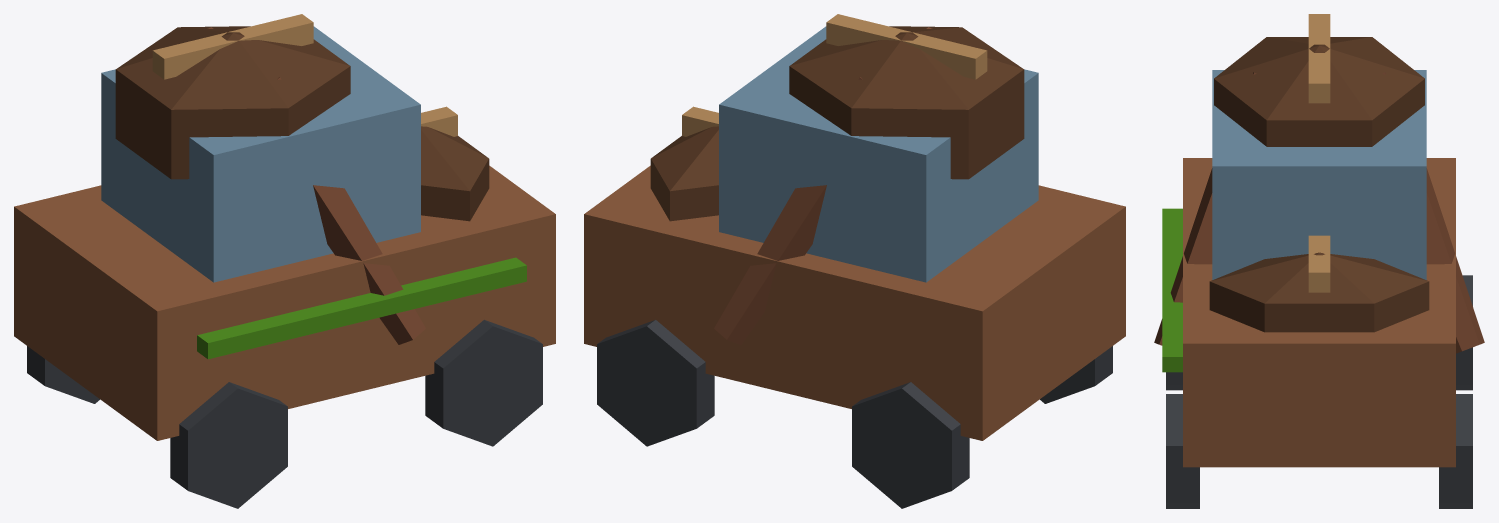
Rendered from prop-car-compact-infested.glb.
The picture shows the model from 3 angles, left to right: view 1: azimuth 30°, elevation 25°; view 2: azimuth 150°, elevation 25°; view 3: azimuth 270°, elevation 25°; orthographic projection. The views are drawn at different scales.
Visible parts, largest first — view 1: rusted_body, cabin, roof_growth, wheel.002, wheel, resin_seam, bonnet_growth, windshield_root_-1, roof_growth_ridge, wheel.001, bonnet_growth_ridge; view 2: rusted_body, cabin, roof_growth, wheel.003, wheel.001, windshield_root_1, bonnet_growth, roof_growth_ridge, wheel, bonnet_growth_ridge; view 3: rusted_body, cabin, roof_growth, bonnet_growth, resin_seam, windshield_root_1, wheel.002, wheel.003, windshield_root_-1, roof_growth_ridge, bonnet_growth_ridge, wheel.001.
Part boxes in pixels (bbox=[...]): rusted_body: bbox=[14, 165, 555, 440]; cabin: bbox=[101, 26, 420, 282]; roof_growth: bbox=[115, 26, 350, 179]; wheel.002: bbox=[425, 319, 542, 446]; wheel: bbox=[170, 382, 287, 508]; resin_seam: bbox=[197, 257, 526, 359]; bonnet_growth: bbox=[421, 126, 489, 221]; windshield_root_-1: bbox=[277, 77, 425, 344]; roof_growth_ridge: bbox=[152, 14, 313, 79]; wheel.001: bbox=[27, 346, 99, 403]; bonnet_growth_ridge: bbox=[421, 106, 457, 136]; rusted_body: bbox=[584, 165, 1125, 440]; cabin: bbox=[719, 26, 1038, 282]; roof_growth: bbox=[789, 26, 1024, 179]; wheel.003: bbox=[597, 319, 714, 446]; wheel.001: bbox=[852, 382, 969, 508]; windshield_root_1: bbox=[714, 77, 862, 344]; bonnet_growth: bbox=[650, 126, 718, 221]; roof_growth_ridge: bbox=[826, 14, 987, 79]; wheel: bbox=[1040, 346, 1112, 403]; bonnet_growth_ridge: bbox=[682, 106, 718, 136]; rusted_body: bbox=[1183, 158, 1455, 467]; cabin: bbox=[1212, 70, 1426, 279]; roof_growth: bbox=[1214, 37, 1424, 146]; bonnet_growth: bbox=[1209, 252, 1429, 332]; resin_seam: bbox=[1162, 208, 1182, 372]; windshield_root_1: bbox=[1382, 72, 1484, 353]; wheel.002: bbox=[1166, 394, 1199, 508]; wheel.003: bbox=[1439, 394, 1472, 508]; windshield_root_-1: bbox=[1154, 72, 1256, 345]; roof_growth_ridge: bbox=[1308, 14, 1330, 103]; bonnet_growth_ridge: bbox=[1308, 235, 1330, 292]; wheel.001: bbox=[1456, 275, 1472, 390].
Size of the model in its own units: 0.9 by 0.86 by 0.6782.
